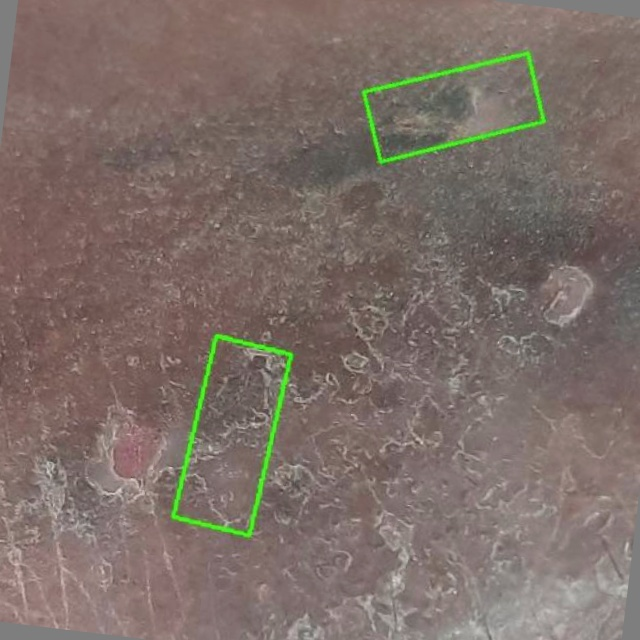Eczema: (173, 335, 292, 534), (364, 53, 544, 160)
